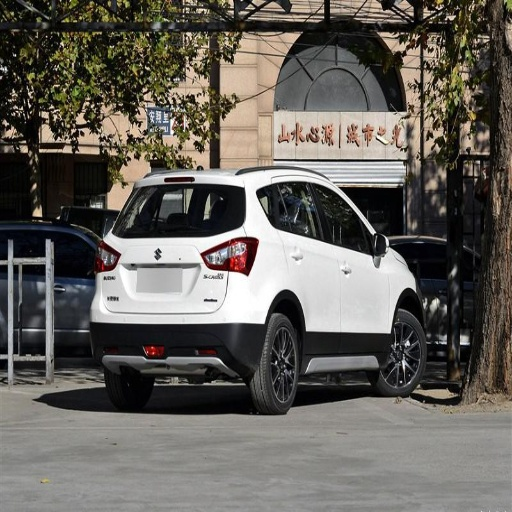back_bumper: (88, 272, 269, 379)
back_right_door: (276, 179, 340, 355)
tailgate: (105, 234, 222, 309)
trunk: (98, 240, 229, 313)
